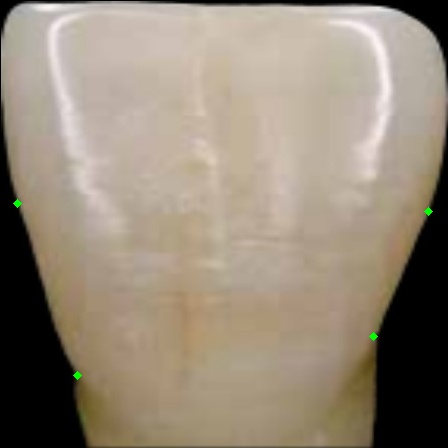coin_1: (77, 375, 97, 395)
coin_2: (17, 203, 37, 223)
coin_3: (373, 336, 393, 356)
coin_4: (428, 211, 448, 231)
